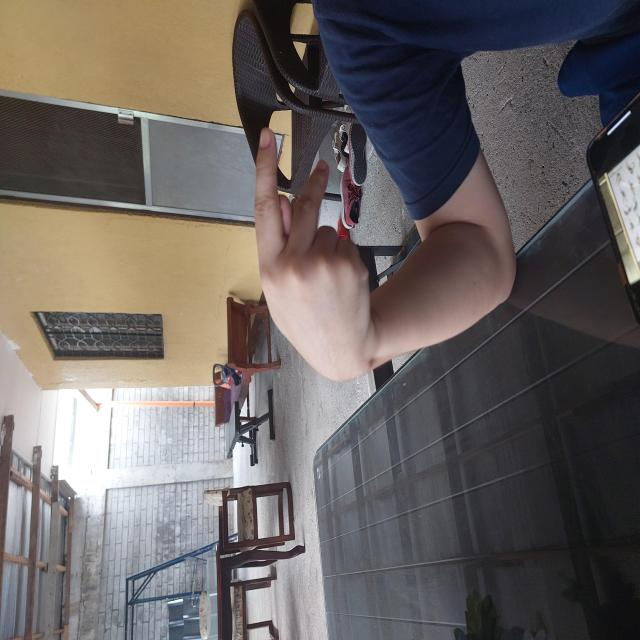K: (255, 252, 514, 374)
